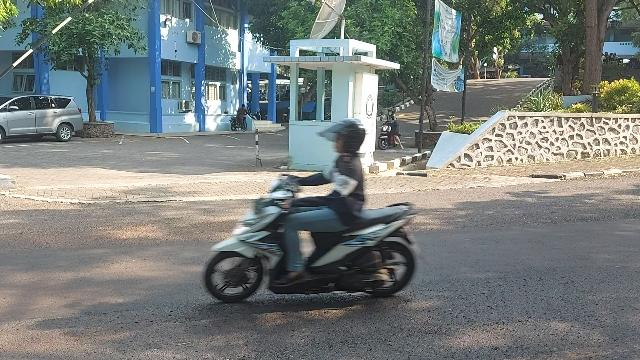helm: (320, 120, 366, 155)
motor: (205, 177, 427, 305)
